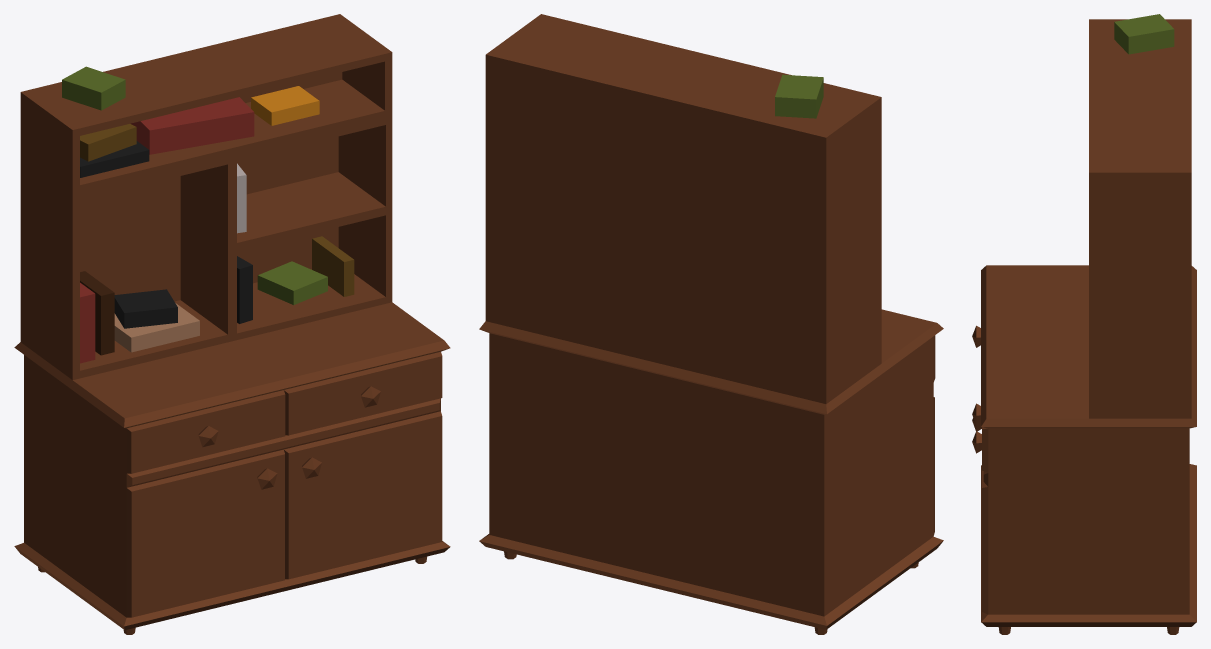
Rendered from Cabinet1.fbx.
The picture shows the model from 3 angles, left to right: view 1: azimuth 30°, elevation 25°; view 2: azimuth 150°, elevation 25°; view 3: azimuth 270°, elevation 25°; orthographic projection. The views are drawn at different scales.
Parts seen in each view (by area): view 1: Cabinet1; view 2: Cabinet1; view 3: Cabinet1.
Boxes of the visible parts, x1=… form: Cabinet1: x1=14, y1=14, x2=450, y2=634; Cabinet1: x1=479, y1=14, x2=943, y2=634; Cabinet1: x1=972, y1=14, x2=1196, y2=634.
Bounding box in the file's own units: 277 × 399 × 168.
